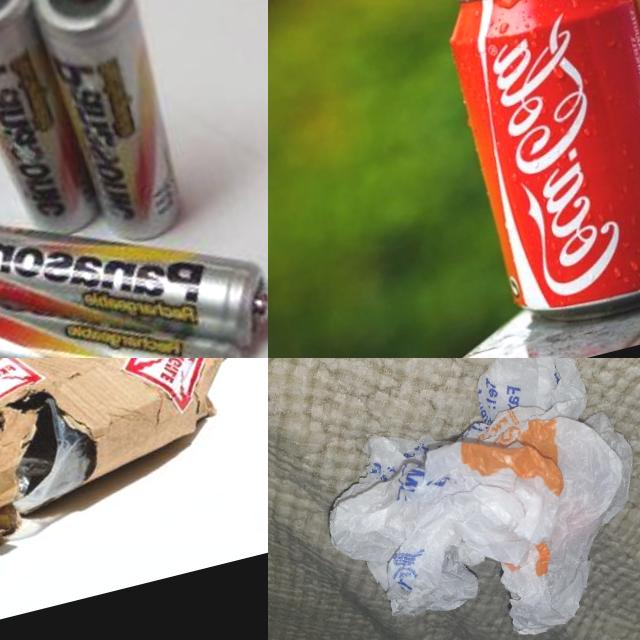bateria: (0, 140, 268, 358), (19, 0, 196, 255), (0, 206, 261, 358), (0, 0, 101, 254)
lata: (434, 0, 640, 340)
papelão: (0, 358, 258, 587)
sacola plástica: (291, 358, 640, 640)
